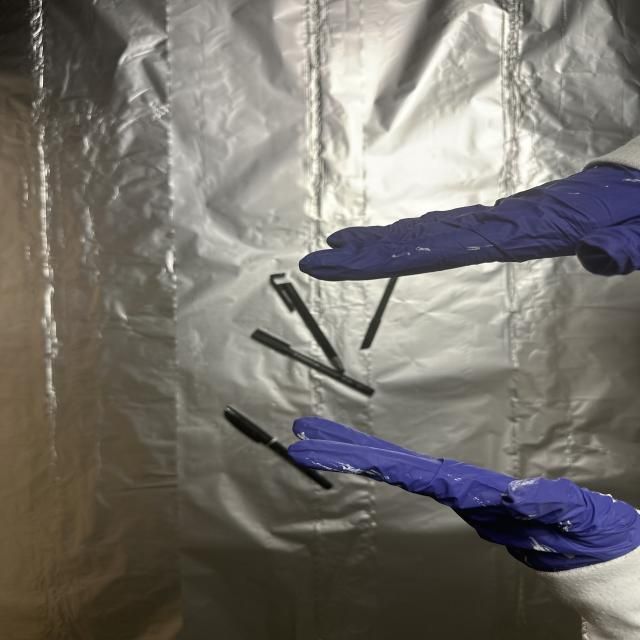gloves_contaminated: (288, 418, 640, 575), (299, 143, 640, 281)
